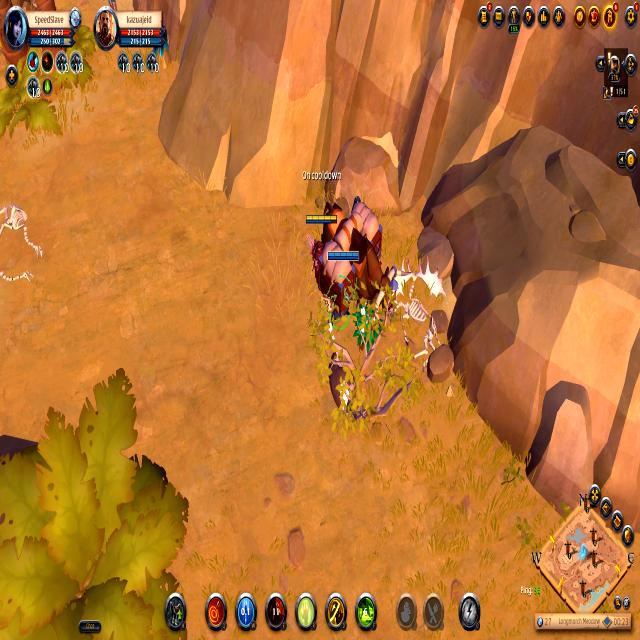hide: (352, 294, 380, 356)
mob: (325, 339, 363, 432)
red: (323, 244, 362, 340), (303, 208, 340, 296)
